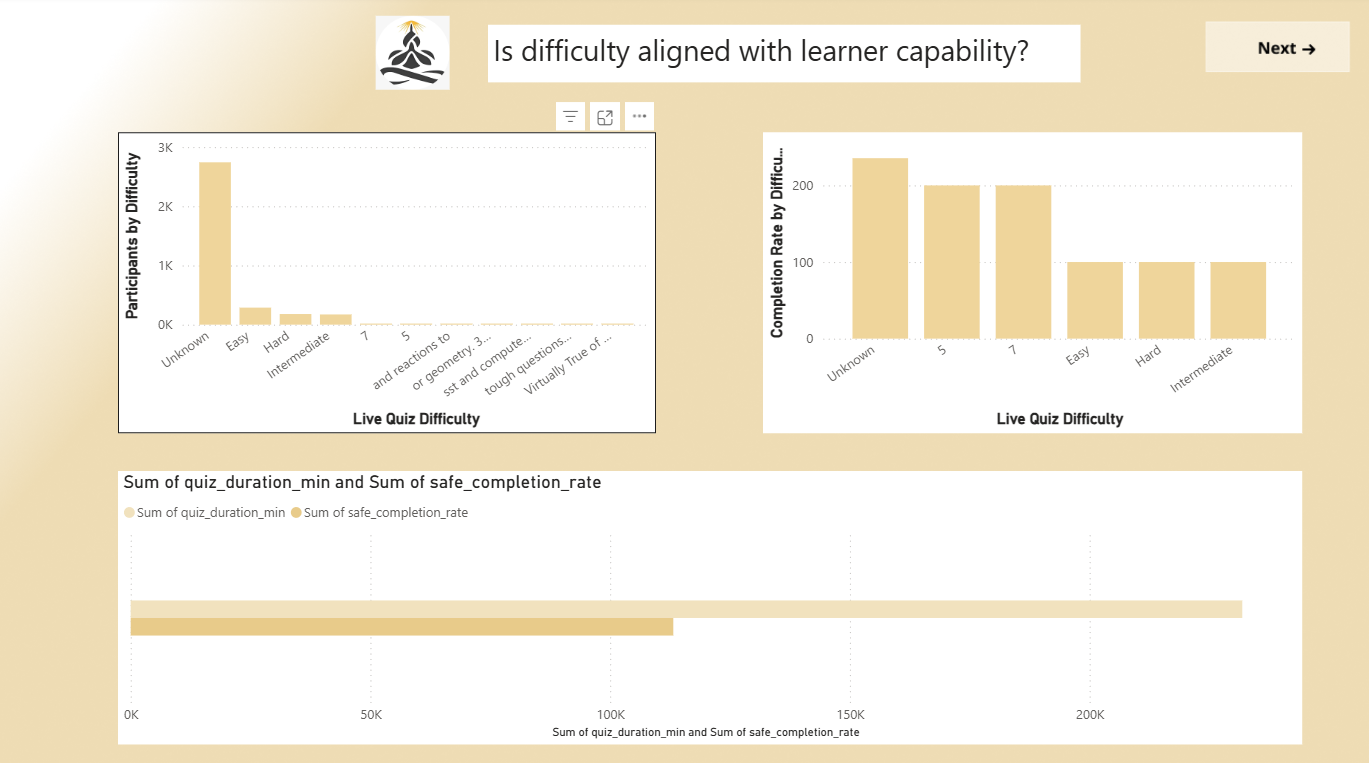

The page's visual inventory and layout, read from the dashboard file:
{"tool":"powerbi","page":{"name":"Page 3","canvas":[1280,720],"ordinal":3},"visuals":[{"type":"clusteredColumnChart","fields":{"Category":["vw_dashboard_quiz_analytics.live_quiz_difficulty"],"Y":["_Measures.Participants by Difficulty"]},"box":[111.4,127.1,500,280],"z":0},{"type":"clusteredColumnChart","fields":{"Category":["vw_dashboard_quiz_analytics.live_quiz_difficulty"],"Y":["_Measures.Completion Rate by Difficulty (%)"]},"box":[711.4,127.1,501.4,280],"z":1000},{"type":"clusteredBarChart","fields":{"Y":["Sum(vw_dashboard_quiz_analytics.quiz_duration_min)","Sum(vw_dashboard_quiz_analytics.safe_completion_rate)"]},"box":[111.4,441.4,1101.4,254.3],"z":2000},{"type":"image","box":[346.7,13.3,78.9,80],"z":3000},{"type":"textbox","box":[456.2,26.2,551.2,53.8],"z":4000},{"type":"actionButton","box":[1128.2,26.5,127.6,45.3],"z":5000}]}

Visuals, with their boxes in screenshot pixels (x1, y1, x2, y2), scaled from the page's 1280x720 canvas onto the 1369x763 screenshot:
clusteredColumnChart - vw_dashboard_quiz_analytics.live_quiz_difficulty x _Measures.Participants by Difficulty: {"x1": 119, "y1": 135, "x2": 654, "y2": 431}
clusteredColumnChart - vw_dashboard_quiz_analytics.live_quiz_difficulty x _Measures.Completion Rate by Difficulty (%): {"x1": 761, "y1": 135, "x2": 1297, "y2": 431}
clusteredBarChart - Sum(vw_dashboard_quiz_analytics.quiz_duration_min) x Sum(vw_dashboard_quiz_analytics.safe_completion_rate): {"x1": 119, "y1": 468, "x2": 1297, "y2": 737}
image: {"x1": 371, "y1": 14, "x2": 455, "y2": 99}
textbox: {"x1": 488, "y1": 28, "x2": 1077, "y2": 85}
actionButton: {"x1": 1207, "y1": 28, "x2": 1343, "y2": 76}
